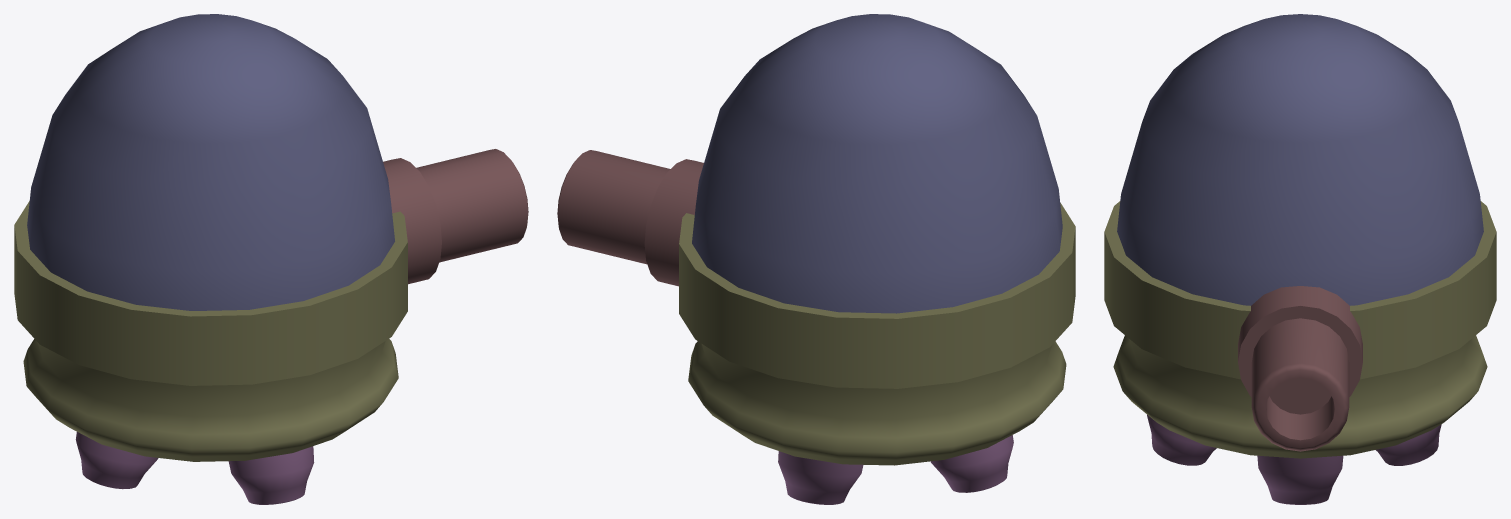
Rendered from Mesh_EnemyBasic_Basic.fbx.
The picture shows the model from 3 angles, left to right: view 1: azimuth 30°, elevation 25°; view 2: azimuth 150°, elevation 25°; view 3: azimuth 270°, elevation 25°; orthographic projection.
Parts seen in each view (by area): view 1: polySurface2, pCylinder9, polySurface1, pCylinder12, pCylinder10, pCylinder8; view 2: polySurface2, pCylinder9, polySurface1, pCylinder12, pCylinder10, pCylinder8; view 3: polySurface2, pCylinder9, polySurface1, pCylinder12, pCylinder10, pCylinder8.
Boxes of the visible parts, <box> form: polySurface2: <box>27,14,394,310</box>; pCylinder9: <box>14,201,407,385</box>; polySurface1: <box>23,338,398,461</box>; pCylinder12: <box>416,149,528,262</box>; pCylinder10: <box>75,432,314,504</box>; pCylinder8: <box>383,158,441,284</box>; polySurface2: <box>692,14,1062,313</box>; pCylinder9: <box>679,203,1075,388</box>; polySurface1: <box>688,341,1066,465</box>; pCylinder12: <box>557,150,670,264</box>; pCylinder10: <box>778,435,1013,504</box>; pCylinder8: <box>644,159,703,286</box>; polySurface2: <box>1117,14,1483,305</box>; pCylinder9: <box>1104,201,1496,379</box>; polySurface1: <box>1113,335,1487,458</box>; pCylinder12: <box>1251,318,1349,451</box>; pCylinder10: <box>1147,415,1441,504</box>; pCylinder8: <box>1238,286,1362,396</box>.
Size of the model in its own units: 286 by 250 by 210.
